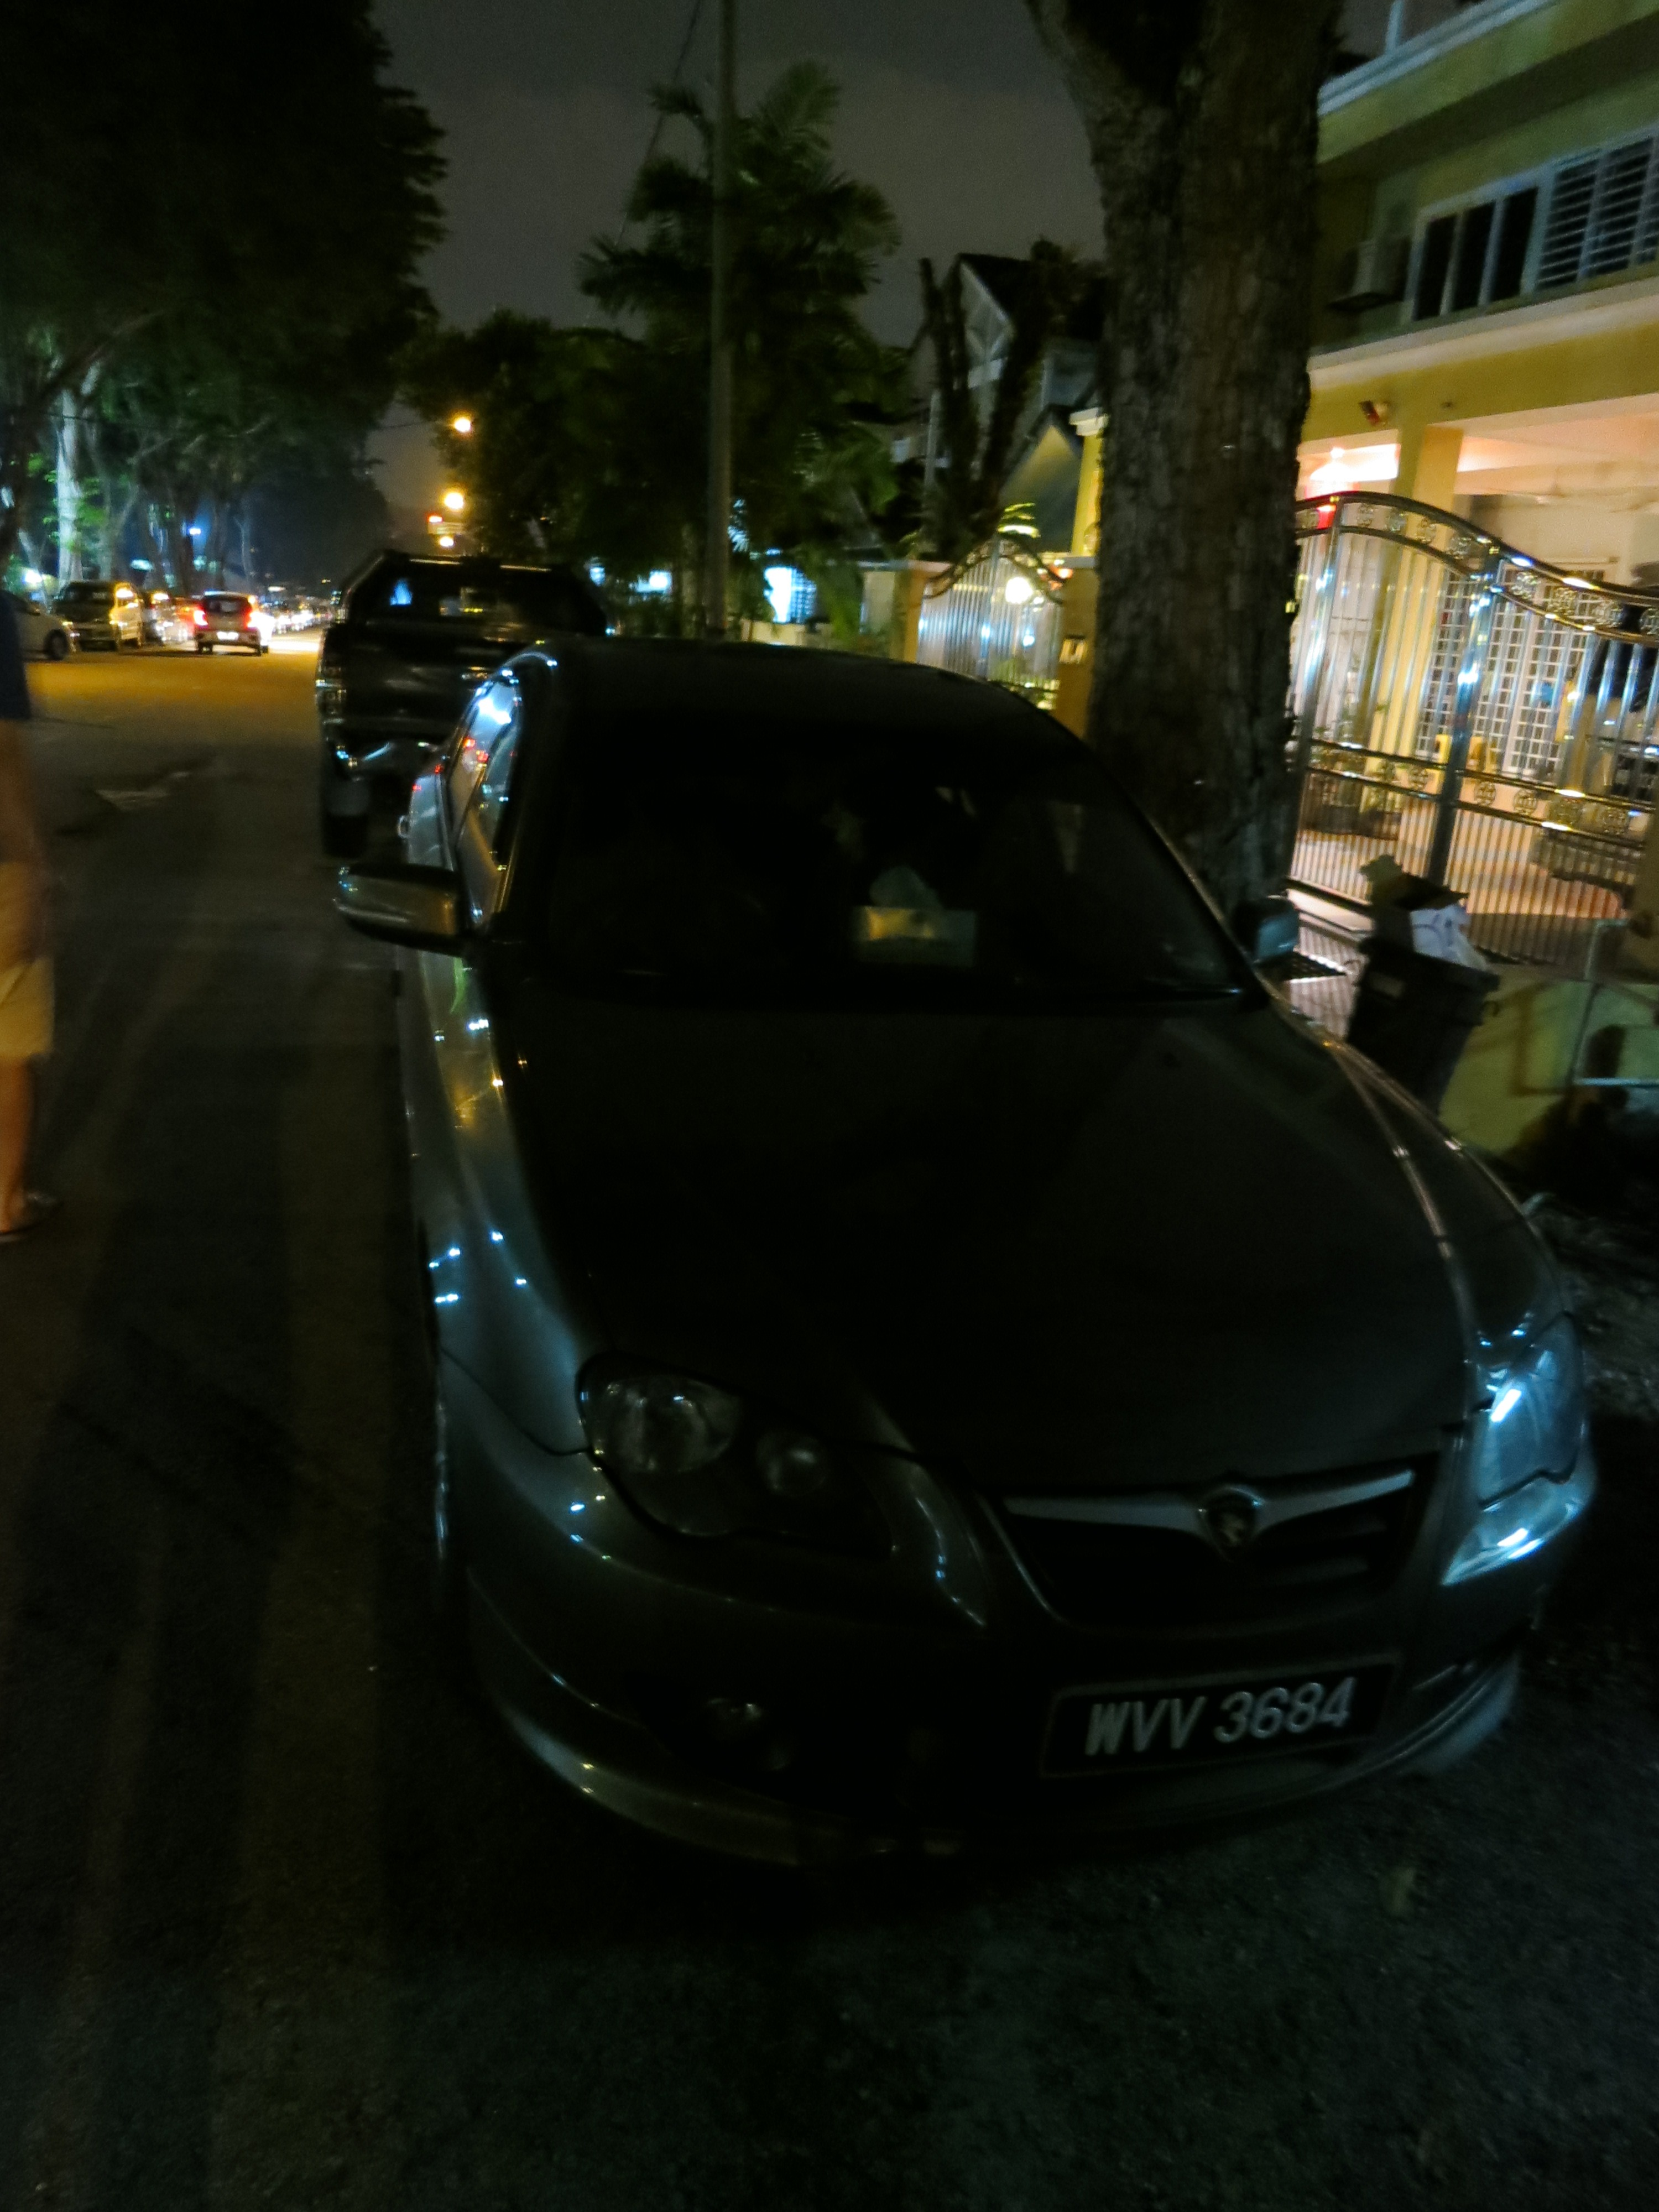car: (298, 608, 1619, 1905)
